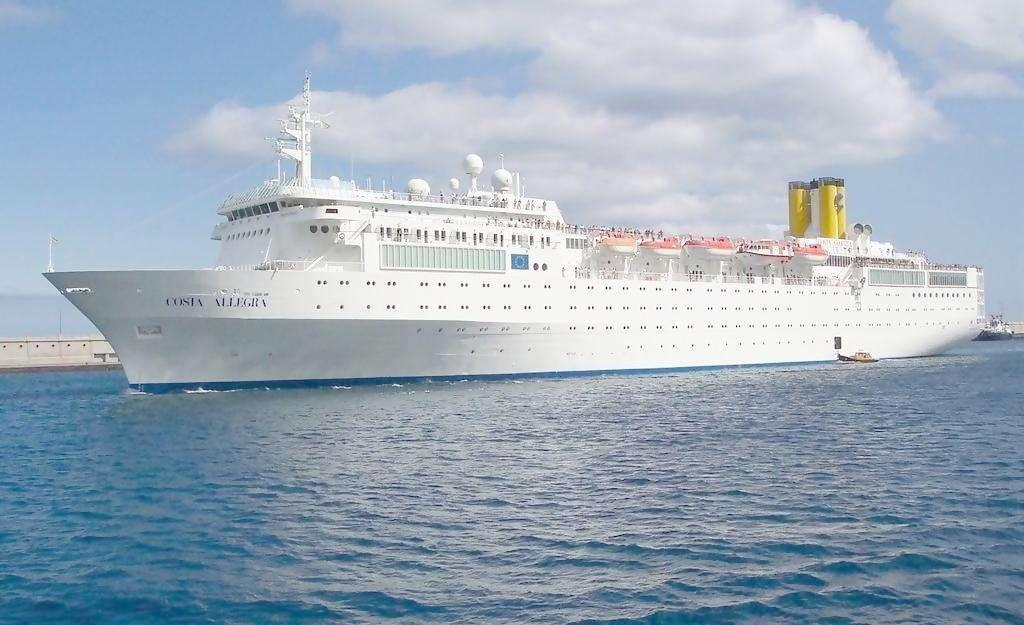youlun: (42, 71, 988, 399)
